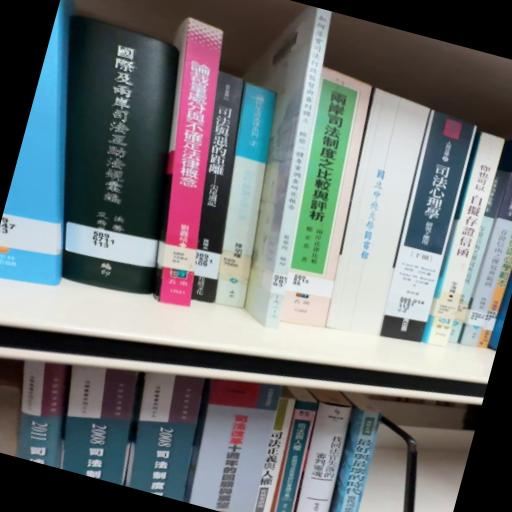backward: (327, 89, 430, 336)
book: (6, 19, 215, 304), (105, 19, 259, 316), (63, 17, 178, 293), (184, 78, 302, 318), (245, 6, 332, 329), (378, 110, 486, 346), (281, 68, 371, 326), (380, 111, 476, 342), (1, 1, 75, 286), (153, 18, 223, 307), (423, 133, 504, 347), (215, 84, 276, 308), (192, 72, 243, 303), (449, 171, 508, 342), (460, 173, 512, 347), (287, 400, 358, 512), (263, 395, 325, 512), (318, 407, 387, 512)
